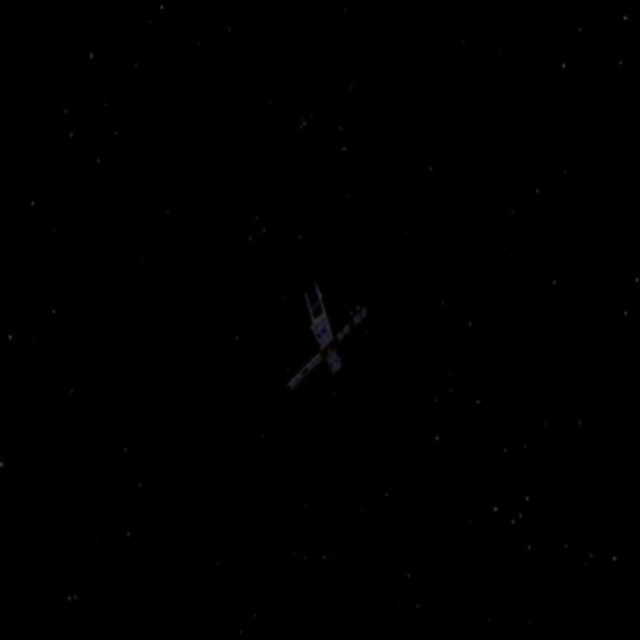medium_debris: (286, 274, 382, 407)
